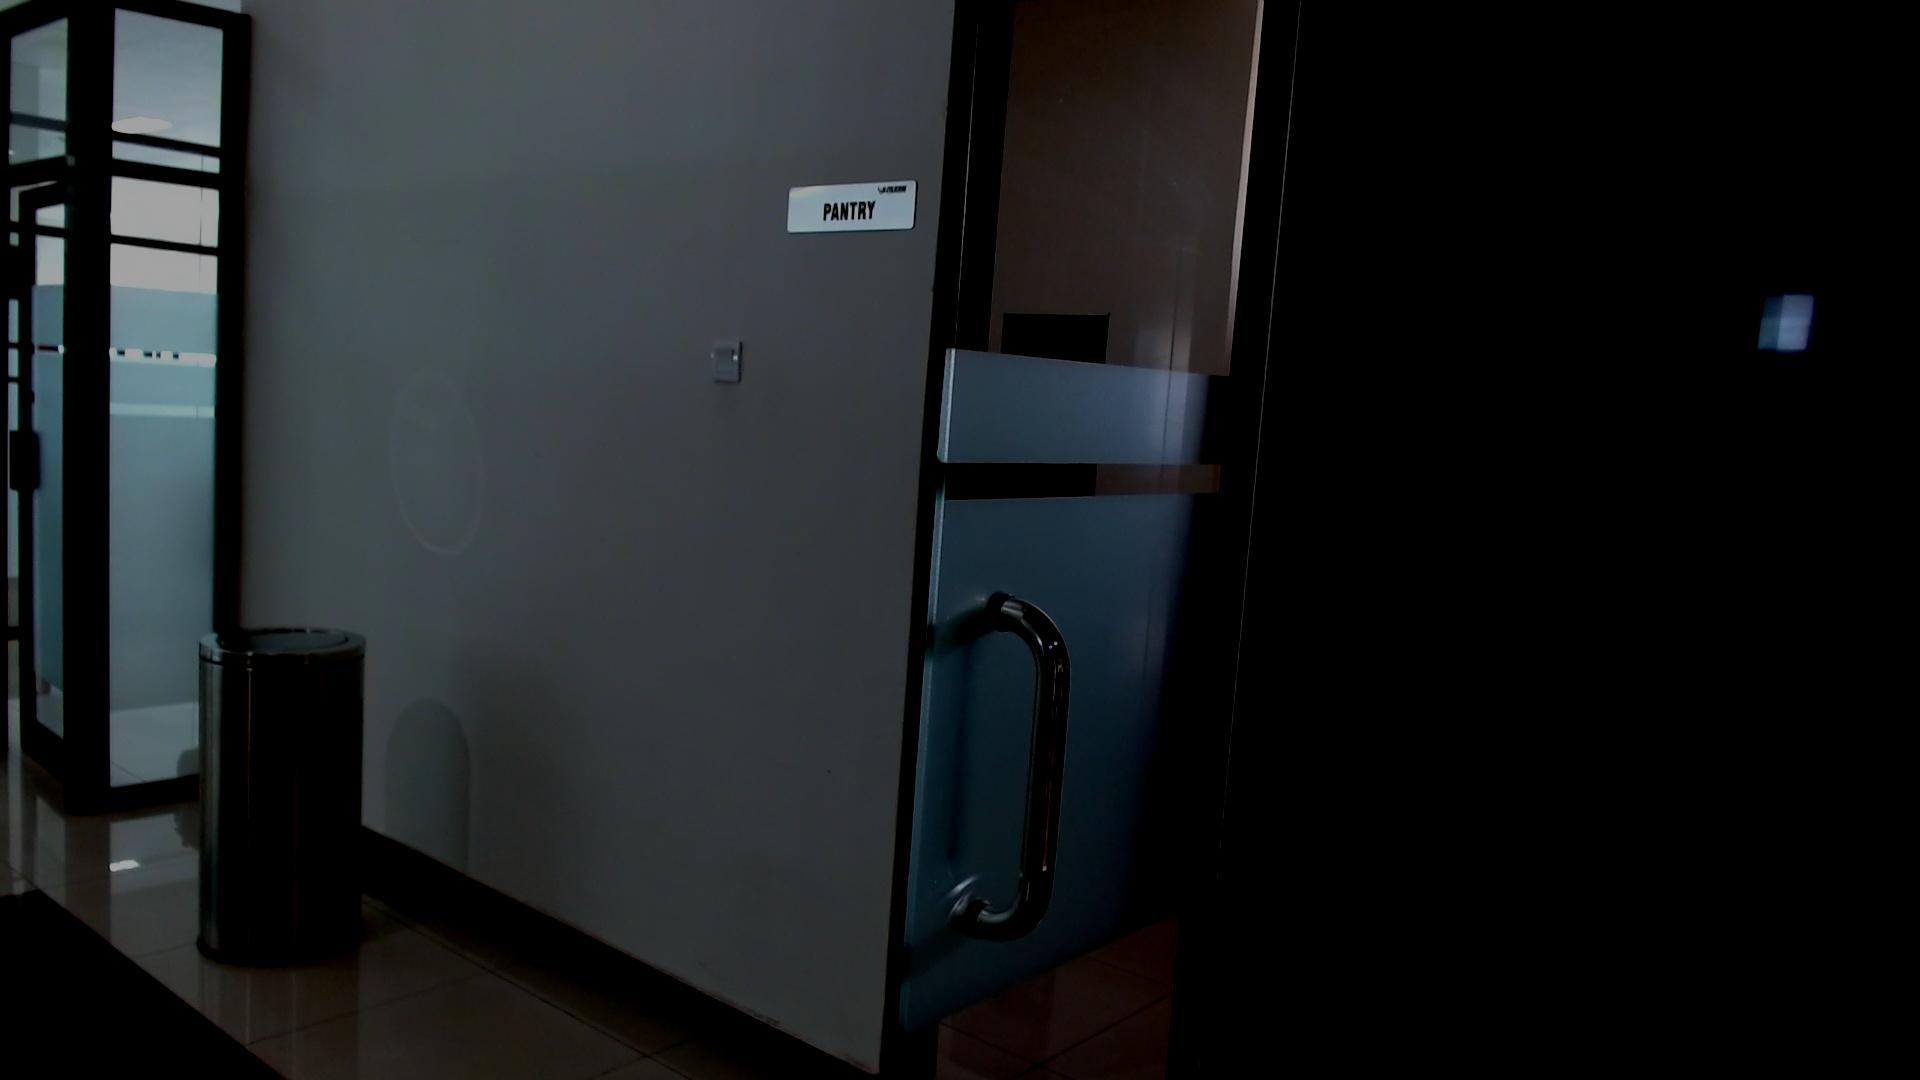plate: (786, 179, 918, 233)
